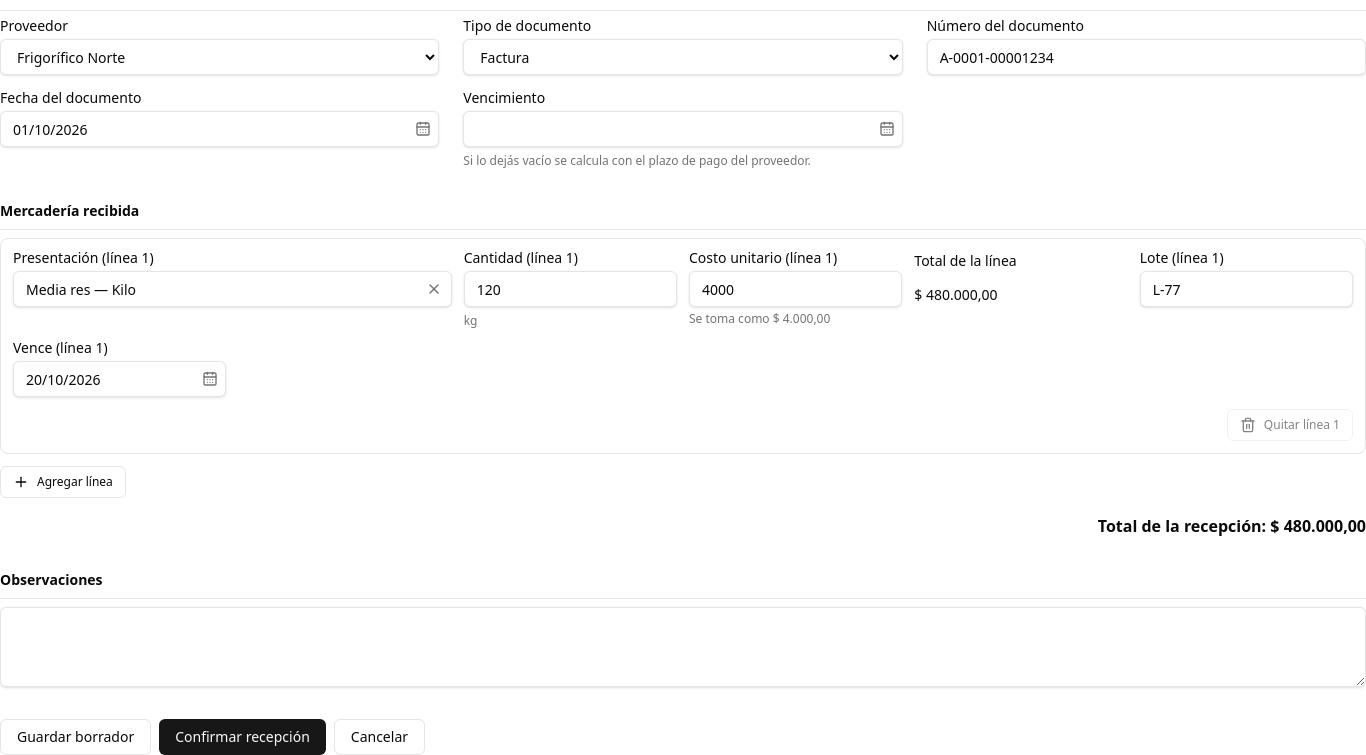
Test case: ReceptionScreen › names the duplicate supplier document when confirming is refused
(page scrolled)
Step 1. Click the button "Confirmar recepción" → click(242, 737), box [159, 719, 326, 754]
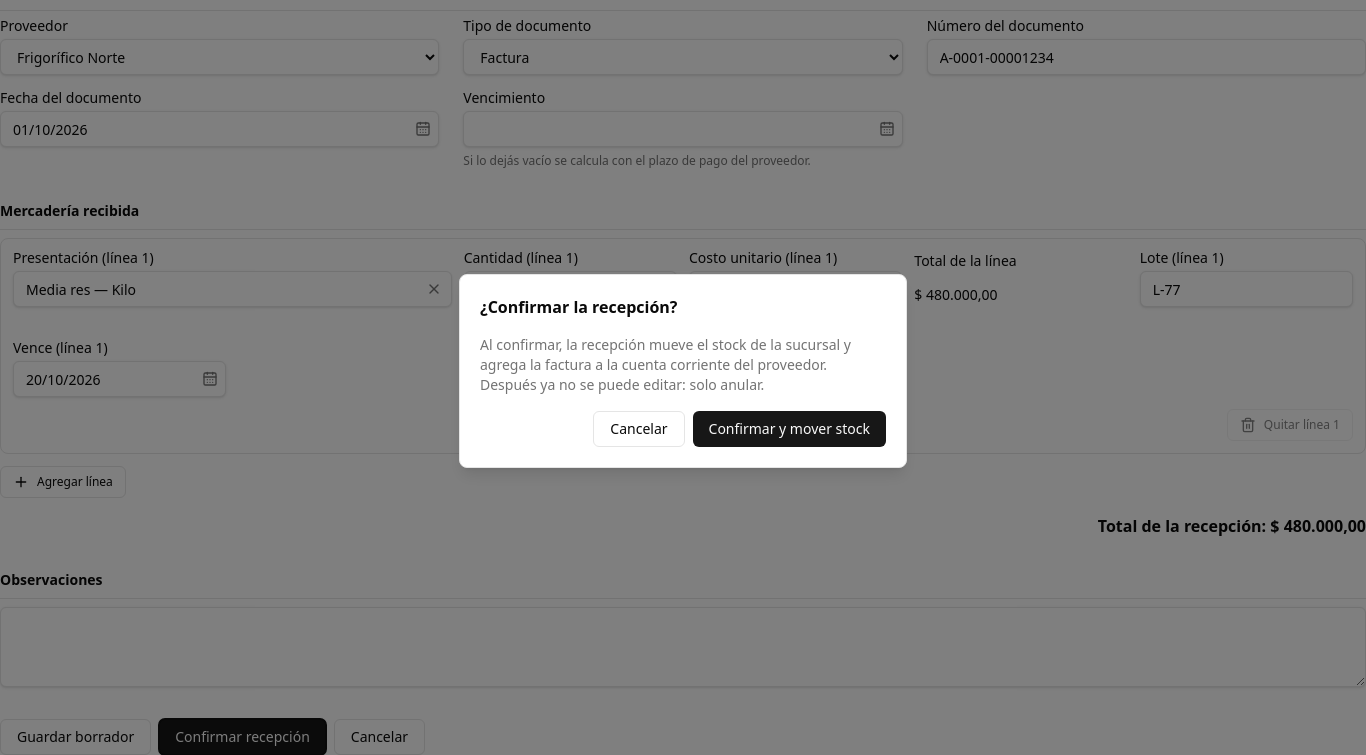
Step 2. Click the button "Confirmar y mover stock" → click(789, 429), box [692, 411, 886, 447]
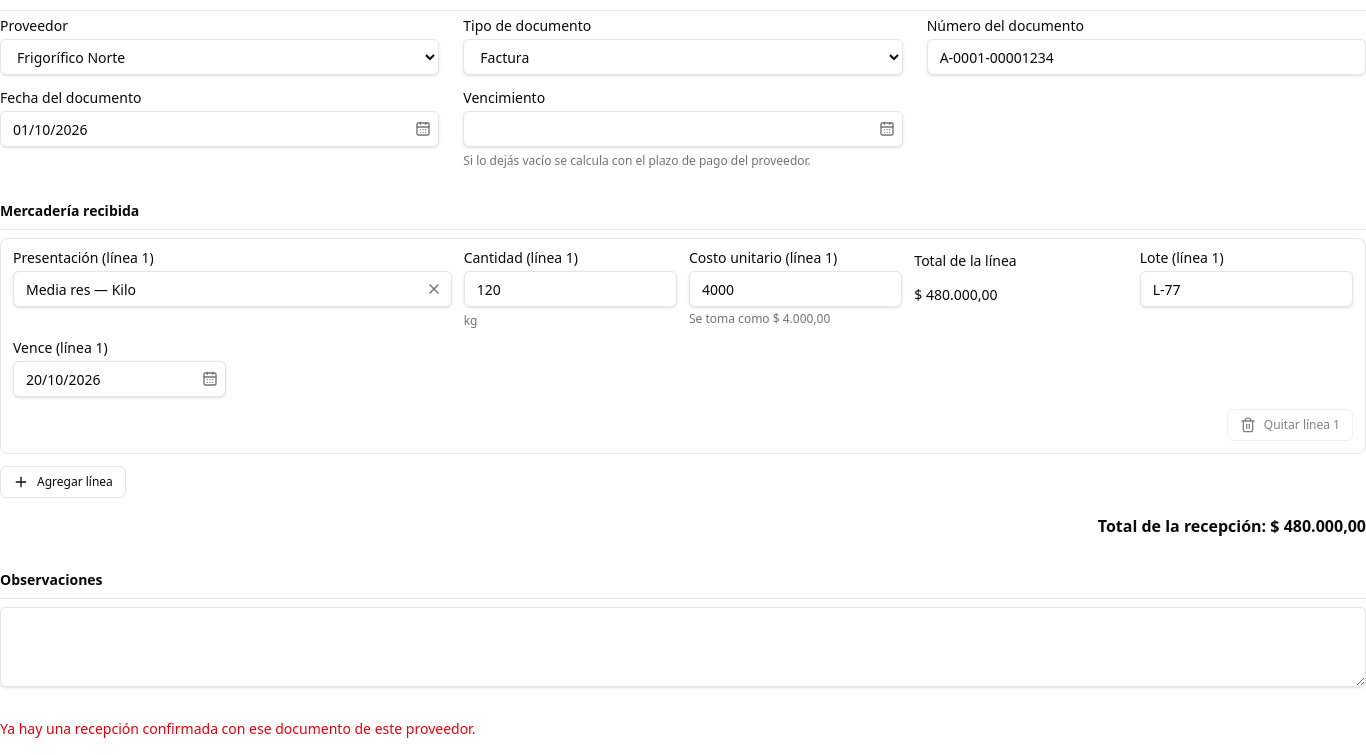
Result: the text "Ya hay una recepción confirmada con ese documento de este proveedor." is shown at [0, 719, 475, 738]
